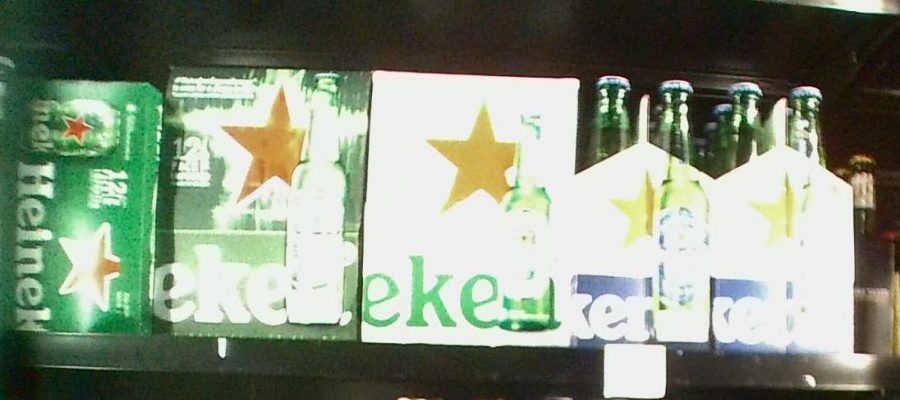bottle: (372, 62, 577, 352), (160, 61, 362, 343), (710, 74, 856, 349), (3, 77, 158, 336), (576, 71, 708, 350)
